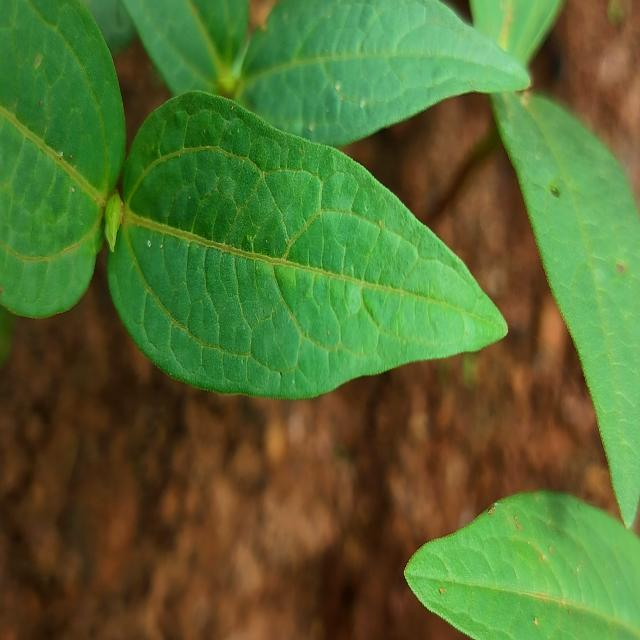Black gram_healthy: (113, 90, 510, 398), (490, 50, 640, 528), (240, 0, 532, 142), (405, 489, 640, 639)
